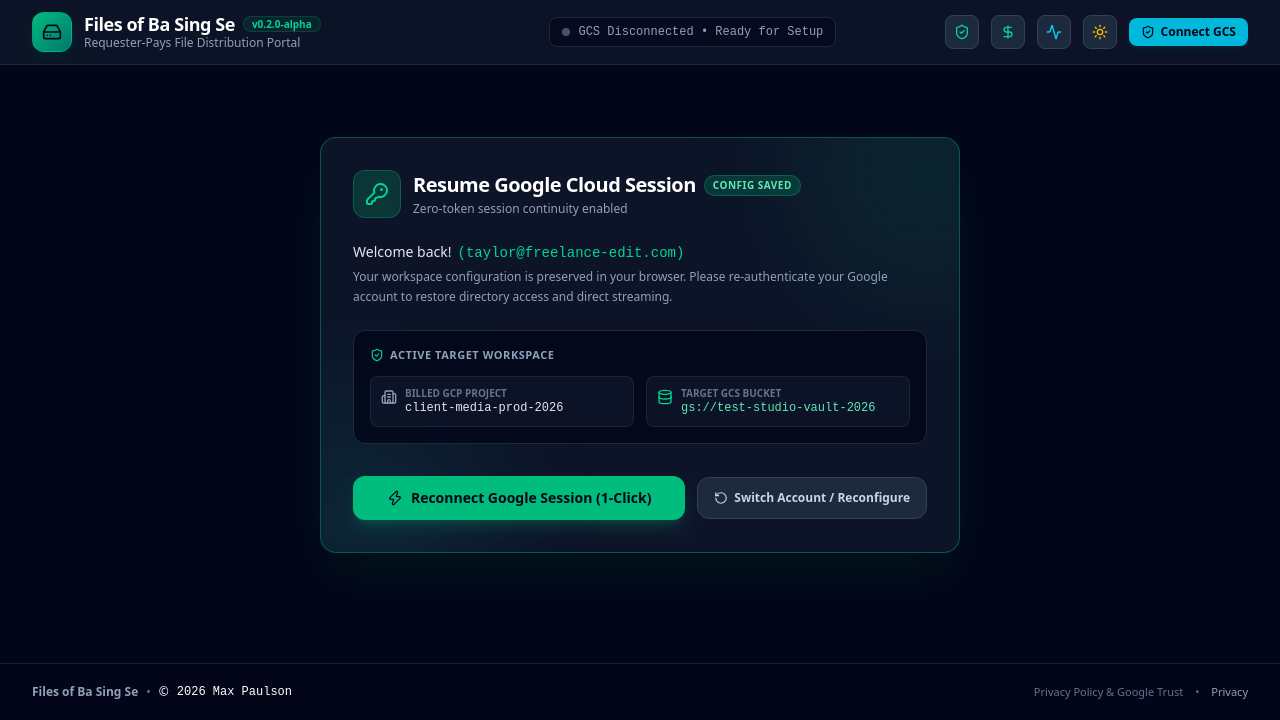
Test case: Session Continuity & Onboarding Bypass Integration (MOD-10 & Epic 10) › Scenario 2: Silent renewal failure falls back to 1-Click SessionReconnectCard without wiping configuration
Expected: the element with test id "session-reconnect-card" is shown, [304,89,976,601]
Expected: the heading "Resume Google Cloud Session" is shown, [413,171,696,199]
Click the button with test id "reconnect-button" at [519, 498], box [353,476,685,520]
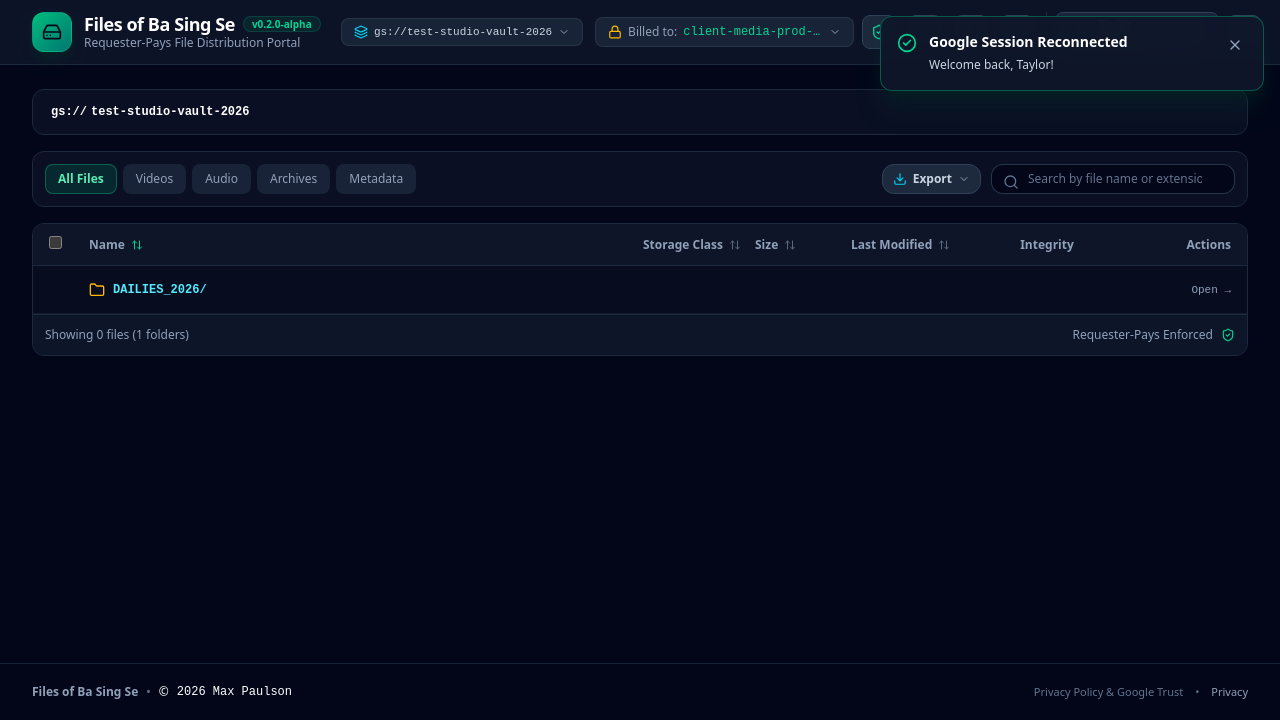
Expected: the text "DAILIES_2026/" is shown, [113,282,207,298]
Expected: the element with test id "session-reconnect-card" is gone
